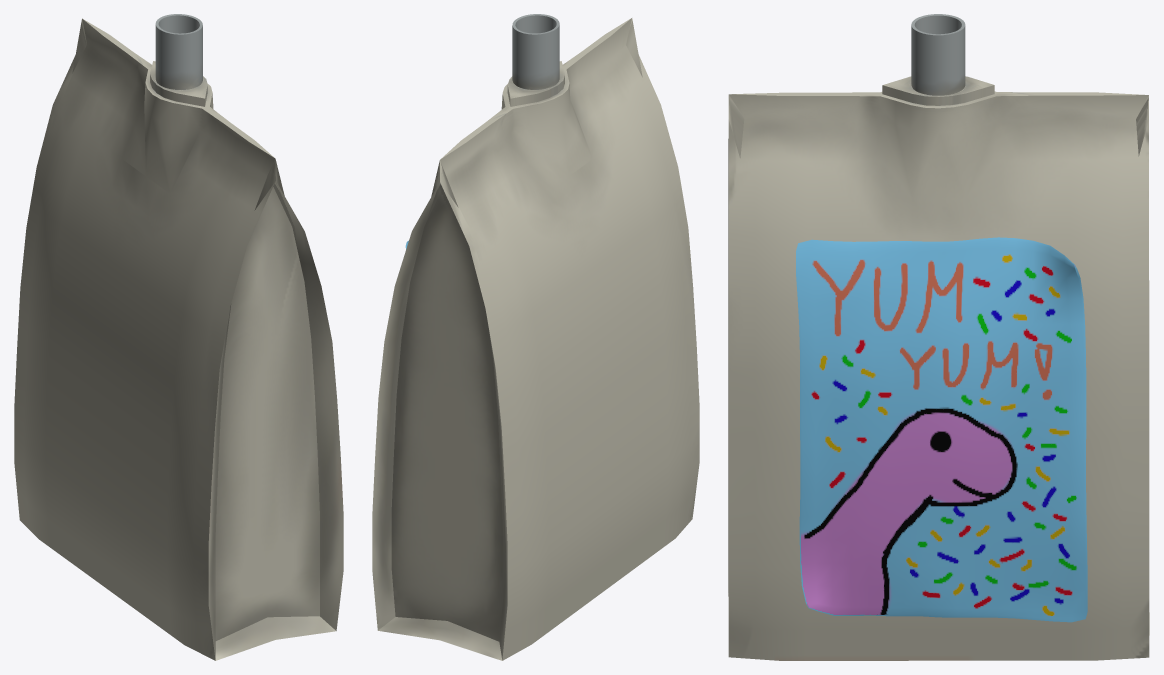
Rendered from Dino YUM YUMs_small.fbx.
3 views of the same model, side by side, from view 1: azimuth 30°, elevation 25°; view 2: azimuth 150°, elevation 25°; view 3: azimuth 270°, elevation 25° (orthographic). The views are drawn at different scales.
Parts seen in each view (by area): view 1: Cube; view 2: Cube; view 3: Cube, Plane.
Part boxes in pixels (x1,y1,x2,y2): Cube: (14, 14, 343, 660); Cube: (372, 14, 699, 660); Cube: (728, 14, 1149, 660); Plane: (796, 237, 1087, 622).
Size of the model in its own units: 11.68 by 39.59 by 25.19.
